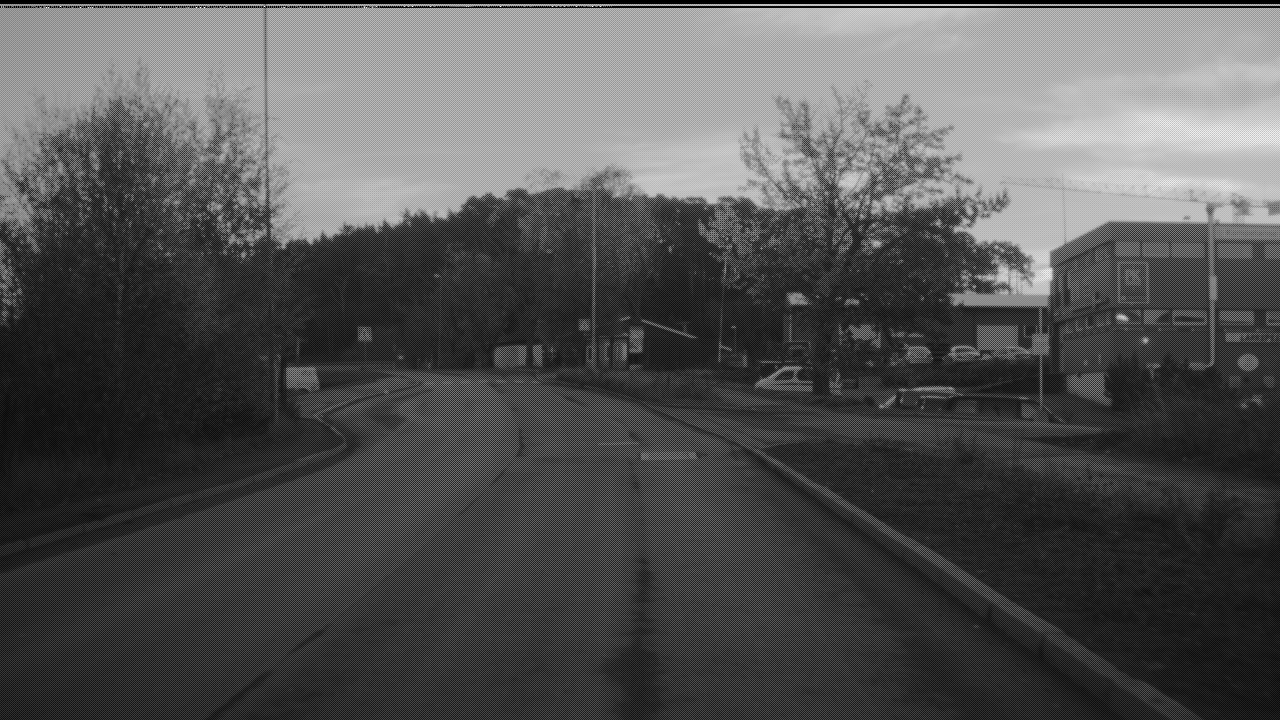pole: (591, 183, 598, 364)
